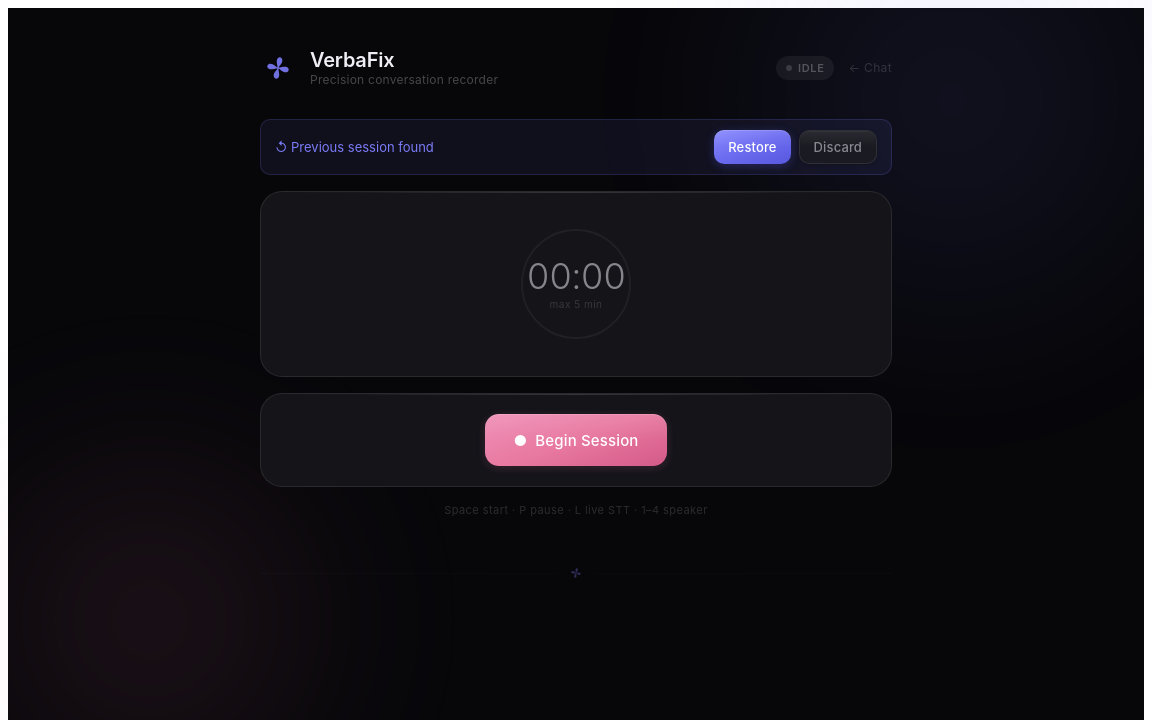
Test case: VerbaFix component › localStorage draft detection › restoring draft displays segments from localStorage
What coordinates should you click on to do the following:
click the button "Restore"
I would click on:
 (752, 147)
Its box is [714,130,791,164].
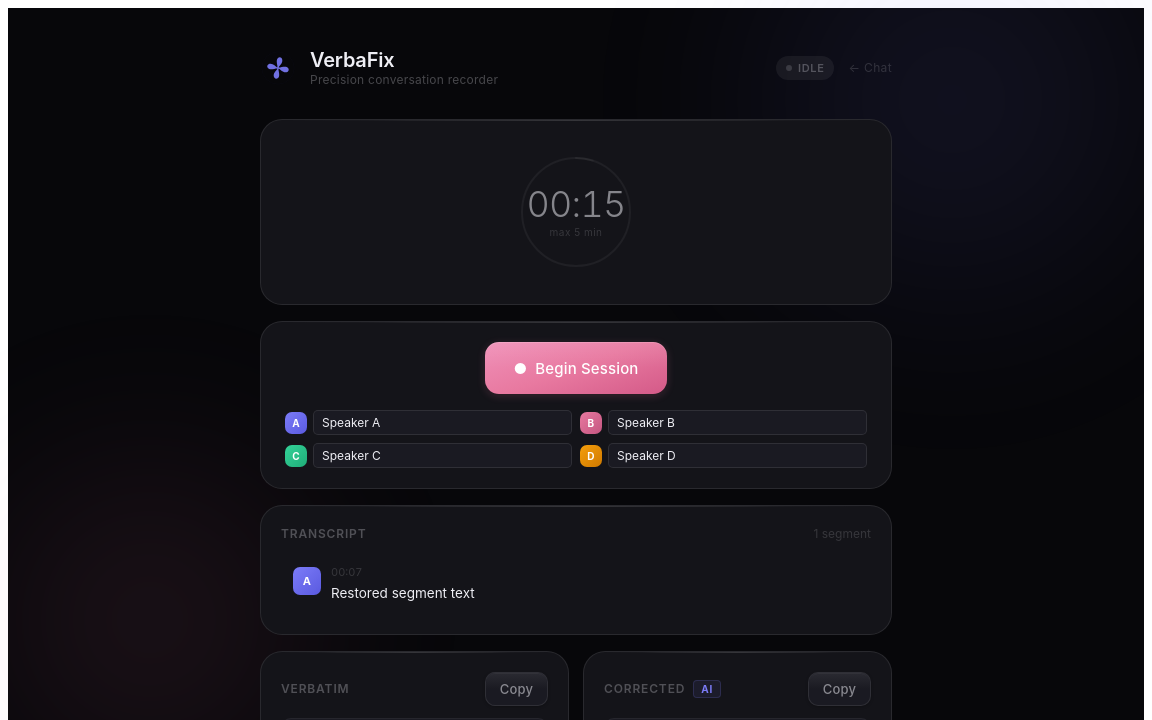
Expected: the text "Restored segment text" is shown, [331,585,475,601]
